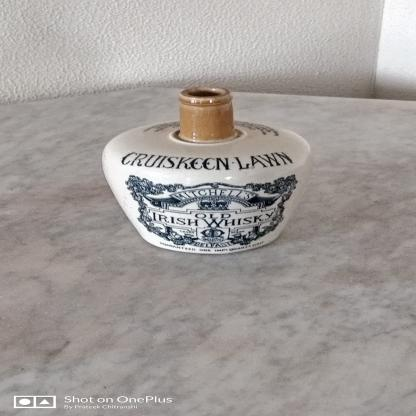bottle: (102, 87, 320, 255)
